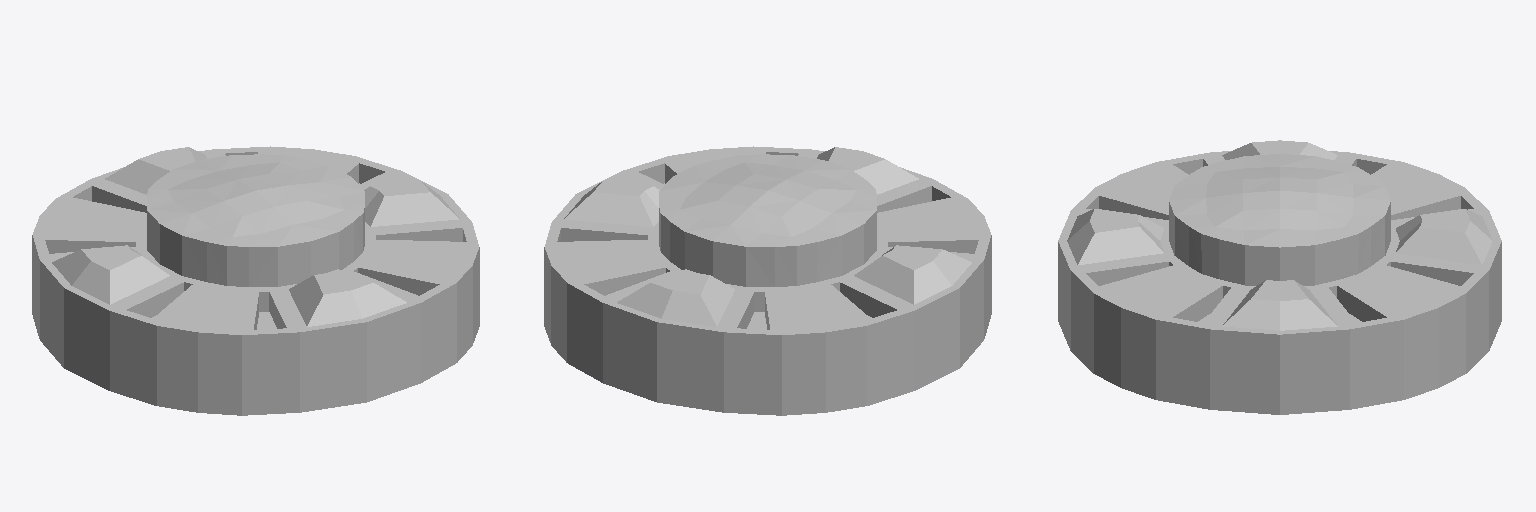
Rendered from MINE.obj.
3 views of the same model, side by side, from view 1: azimuth 30°, elevation 25°; view 2: azimuth 150°, elevation 25°; view 3: azimuth 270°, elevation 25° (orthographic).
Parts seen in each view (by area): view 1: Plane.002; view 2: Plane.002; view 3: Plane.002.
Boxes of the visible parts, x1,y1,x2,y2 form: Plane.002: [32, 146, 479, 415]; Plane.002: [544, 146, 991, 415]; Plane.002: [1058, 140, 1501, 414].
Size of the model in its own units: 0.6 by 0.195 by 0.6.